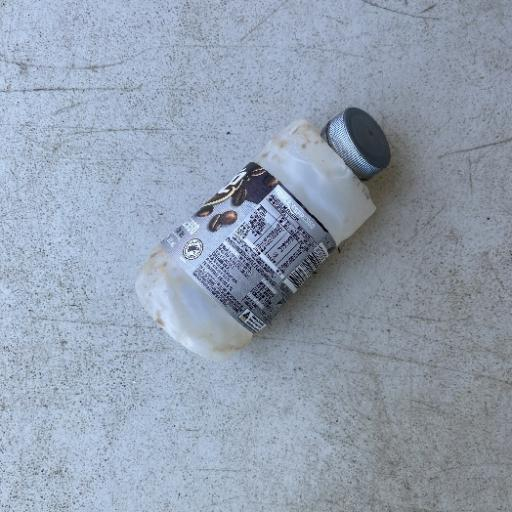Plastic: (132, 104, 394, 362)
